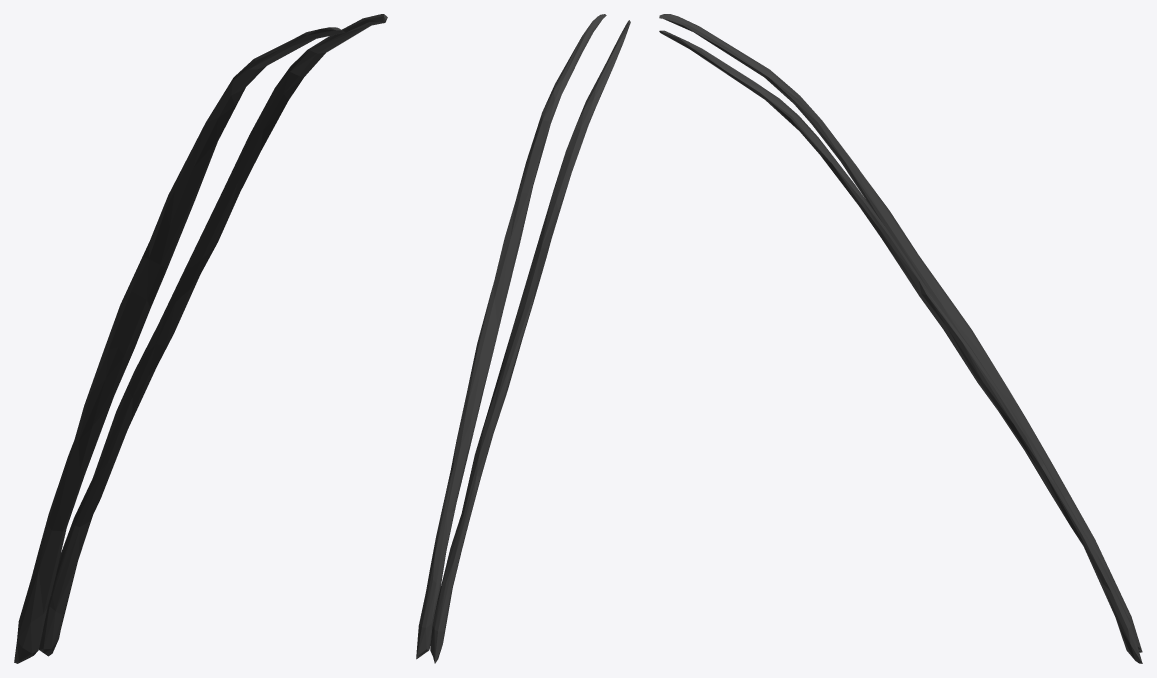
Rendered from m_sternothyroideus.glb.
3 views of the same model, side by side, from view 1: azimuth 30°, elevation 25°; view 2: azimuth 150°, elevation 25°; view 3: azimuth 270°, elevation 25° (orthographic). The views are drawn at different scales.
Visible parts, largest first — view 1: m_sternothyroideus; view 2: m_sternothyroideus; view 3: m_sternothyroideus.
Part boxes in pixels (x1=…): m_sternothyroideus: x1=14, y1=14, x2=387, y2=663; m_sternothyroideus: x1=416, y1=14, x2=630, y2=663; m_sternothyroideus: x1=659, y1=14, x2=1142, y2=663.
Bounding box in the file's own units: 0.000852 × 0.0088 × 0.00607.
1 material, 1 textured.
